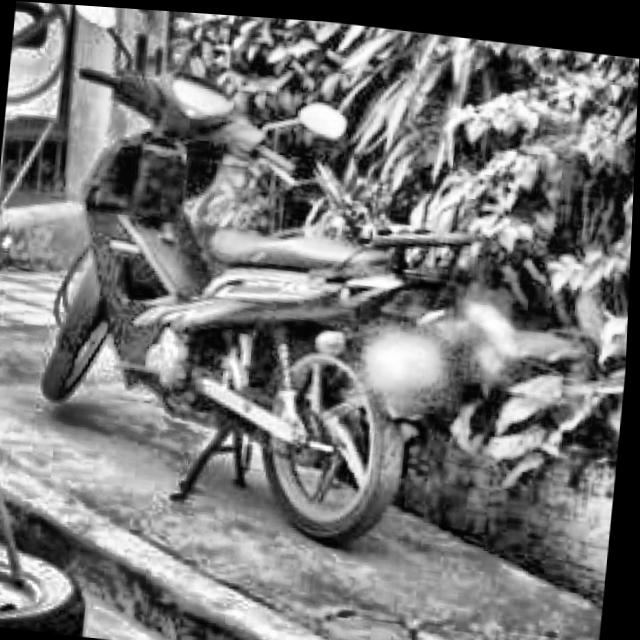motorcycle: (11, 2, 524, 550)
